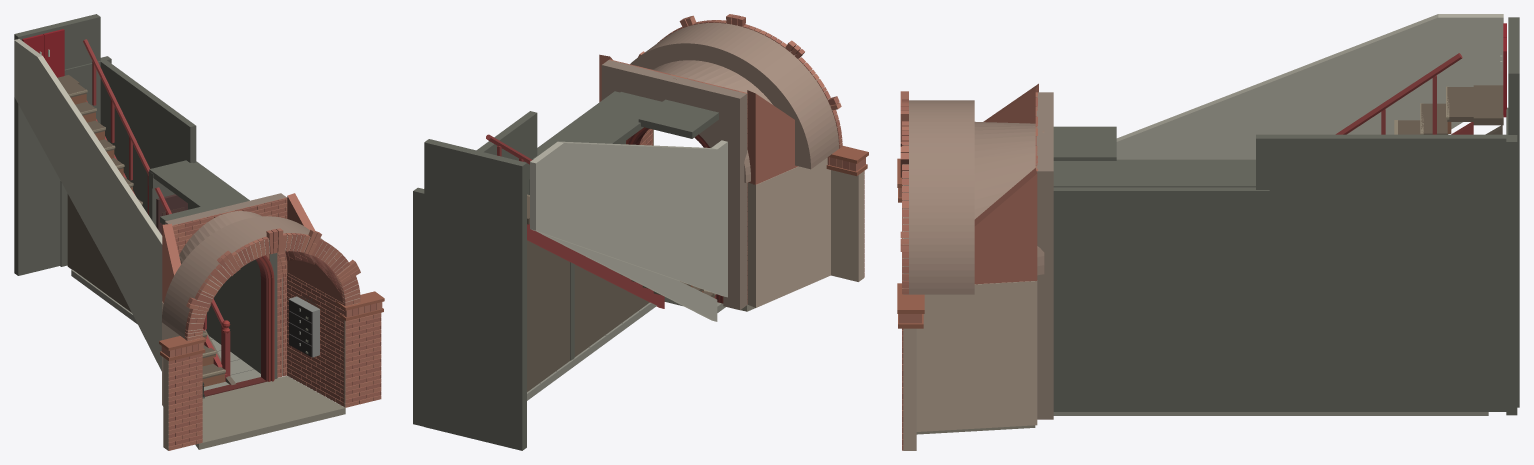
The model's file is changning-great-western-villa-16-arched-entry-lod.glb.
3 renders of one model, left to right at view 1: azimuth 30°, elevation 25°; view 2: azimuth 150°, elevation 25°; view 3: azimuth 270°, elevation 25°, orthographic. The views are drawn at different scales.
Parts seen in each view (by area): view 1: 大西别墅16号的双重砖拱、花饰信报箱与楼梯; view 2: 大西别墅16号的双重砖拱、花饰信报箱与楼梯; view 3: 大西别墅16号的双重砖拱、花饰信报箱与楼梯.
Boxes of the visible parts, box(x1,y1,x2,y2) form: 大西别墅16号的双重砖拱、花饰信报箱与楼梯: box(14, 14, 384, 450); 大西别墅16号的双重砖拱、花饰信报箱与楼梯: box(413, 14, 868, 450); 大西别墅16号的双重砖拱、花饰信报箱与楼梯: box(897, 14, 1519, 450).
Size of the model in its own units: 3.24 by 3.6 by 5.8.
